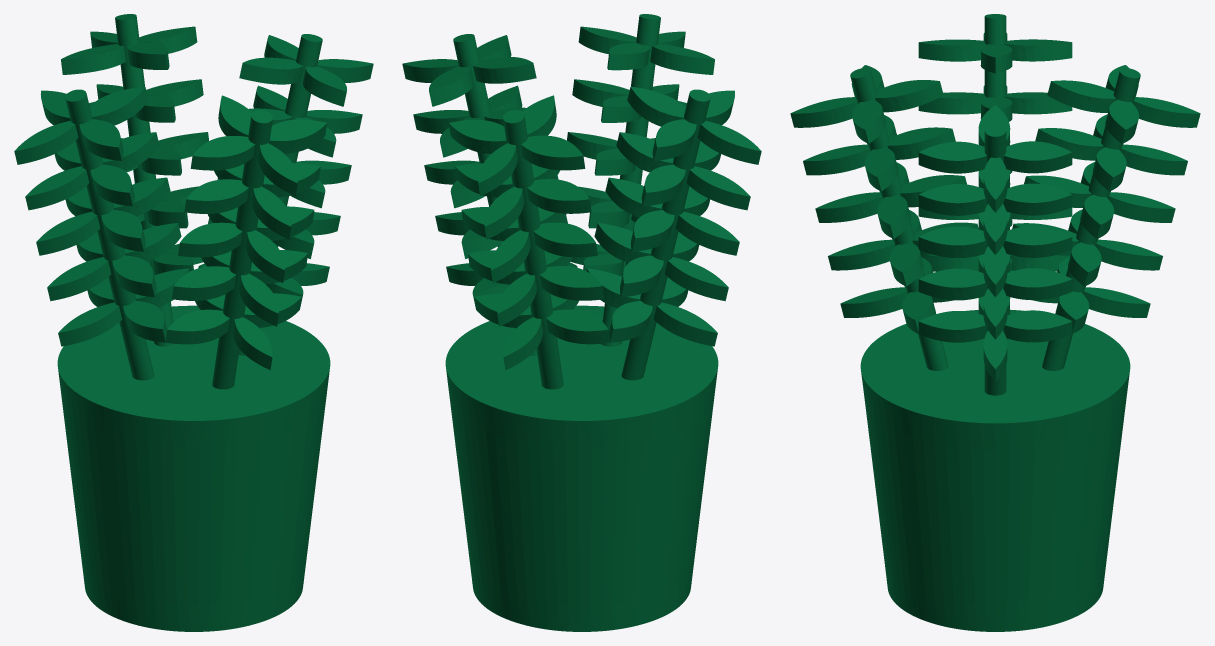
Rendered from plante.dae.
3 renders of one model, left to right at view 1: azimuth 30°, elevation 25°; view 2: azimuth 150°, elevation 25°; view 3: azimuth 270°, elevation 25°, orthographic.
Parts seen in each view (by area): view 1: node0; view 2: node0; view 3: node0.
Boxes of the visible parts, x1,y1,x2,y2 form: node0: (14,14,373,631); node0: (402,14,761,631); node0: (790,14,1200,631).
Bounding box in the file's own units: 0.0761 × 0.0761 × 0.1055.
